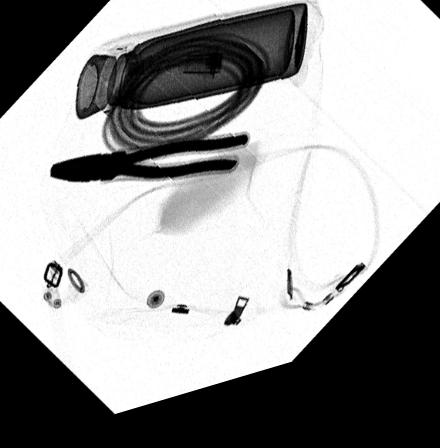Pliers: (50, 146, 248, 187)
